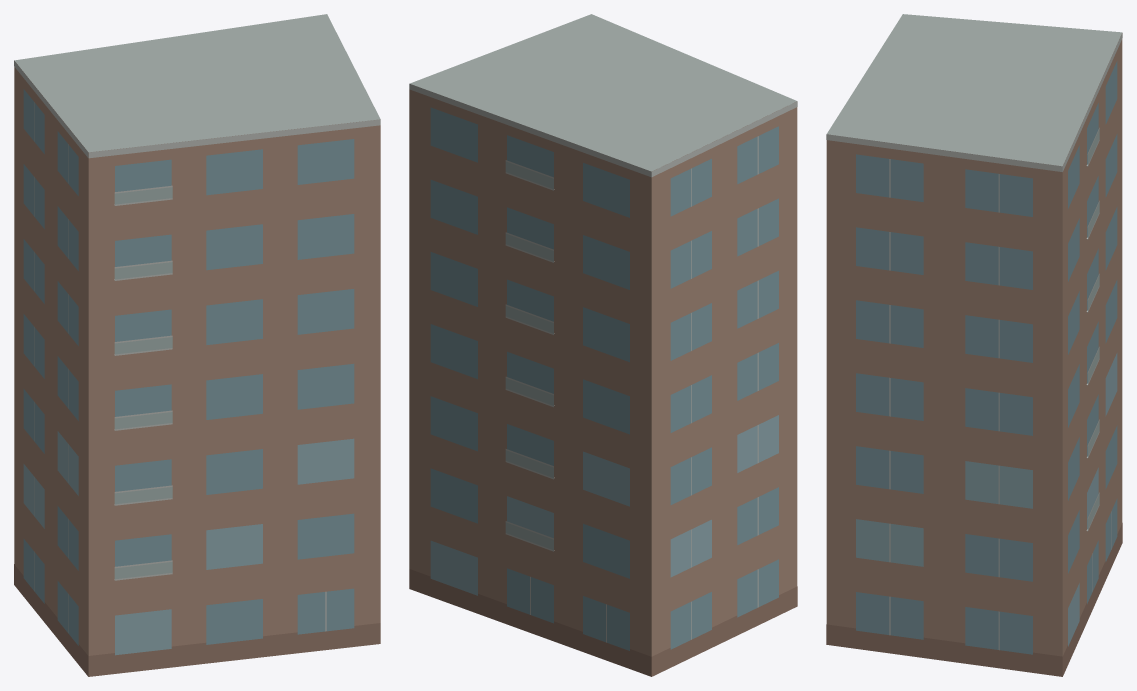
Rendered from survey-upis-33007902.glb.
The picture shows the model from 3 angles, left to right: view 1: azimuth 30°, elevation 25°; view 2: azimuth 150°, elevation 25°; view 3: azimuth 270°, elevation 25°; orthographic projection. The views are drawn at different scales.
Parts seen in each view (by area): view 1: survey-upis-33007902.tmp; view 2: survey-upis-33007902.tmp; view 3: survey-upis-33007902.tmp.
Part boxes in pixels (x1,y1,x2,y2): survey-upis-33007902.tmp: [14, 14, 380, 676]; survey-upis-33007902.tmp: [409, 14, 797, 676]; survey-upis-33007902.tmp: [826, 14, 1122, 676].
Size of the model in its own units: 13.67 by 21.35 by 11.23.
